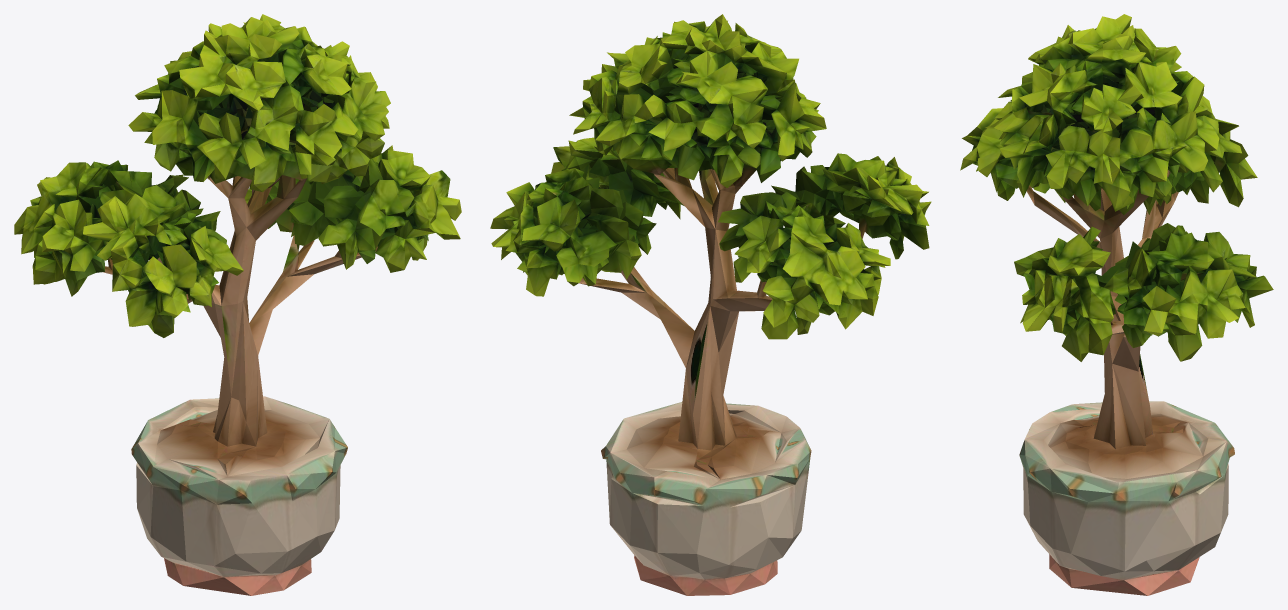
File: 15-ornamental-tree.glb
The picture shows the model from 3 angles, left to right: view 1: azimuth 30°, elevation 25°; view 2: azimuth 150°, elevation 25°; view 3: azimuth 270°, elevation 25°; orthographic projection. The views are drawn at different scales.
Size of the model in its own units: 0.7365 by 0.9958 by 0.5249.
Materials: 1 (1 with a texture image).
